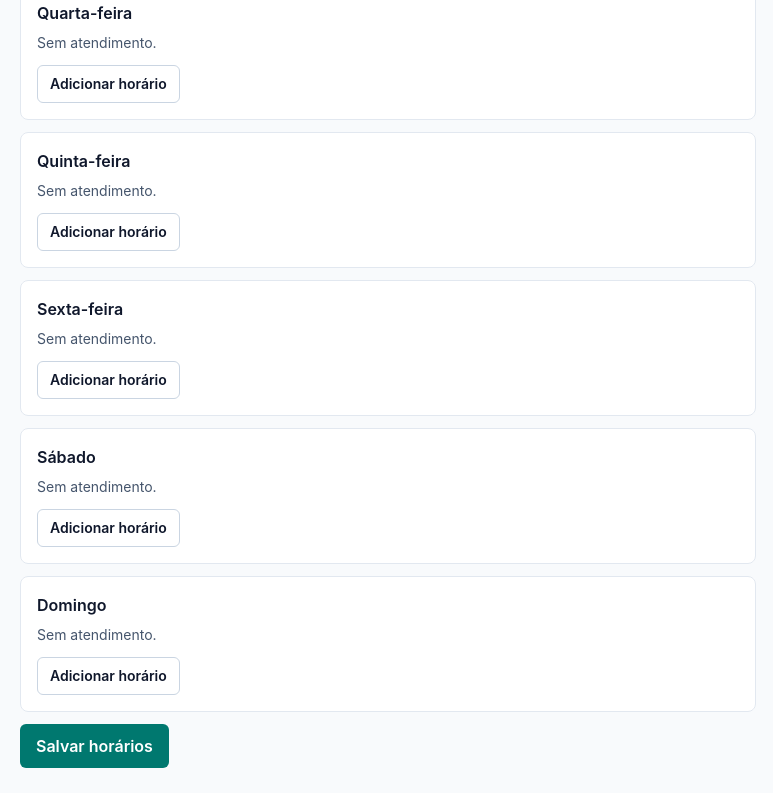
horários de atendimento › mostra o erro que a API devolver
(page scrolled)
Step 1. Click the button named "Adicionar horário no domingo" → (108,676), box [37, 657, 180, 695]
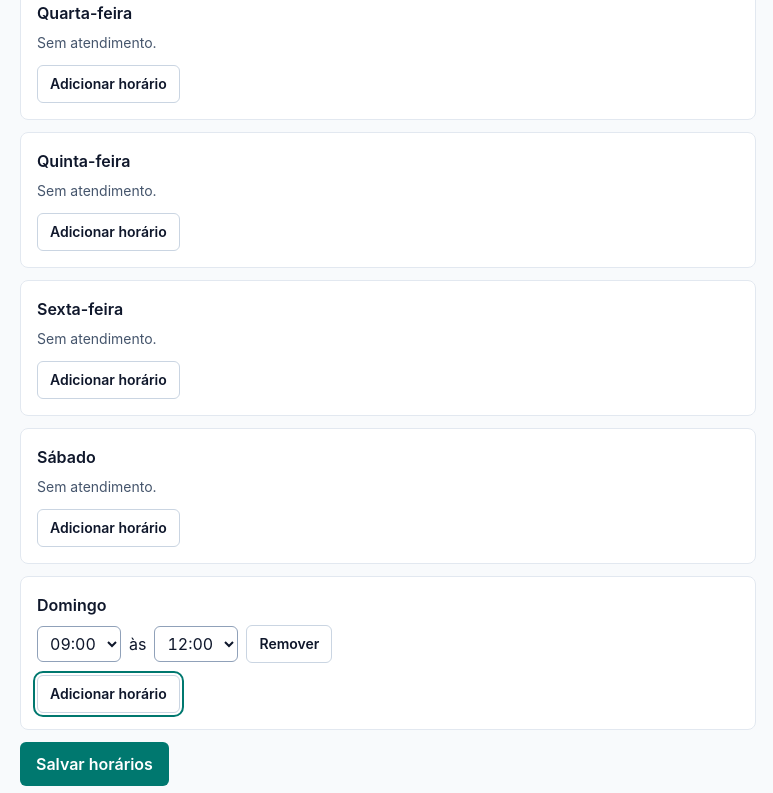
Step 2. Click the button "Salvar horários" → (94,764), box [20, 742, 169, 786]
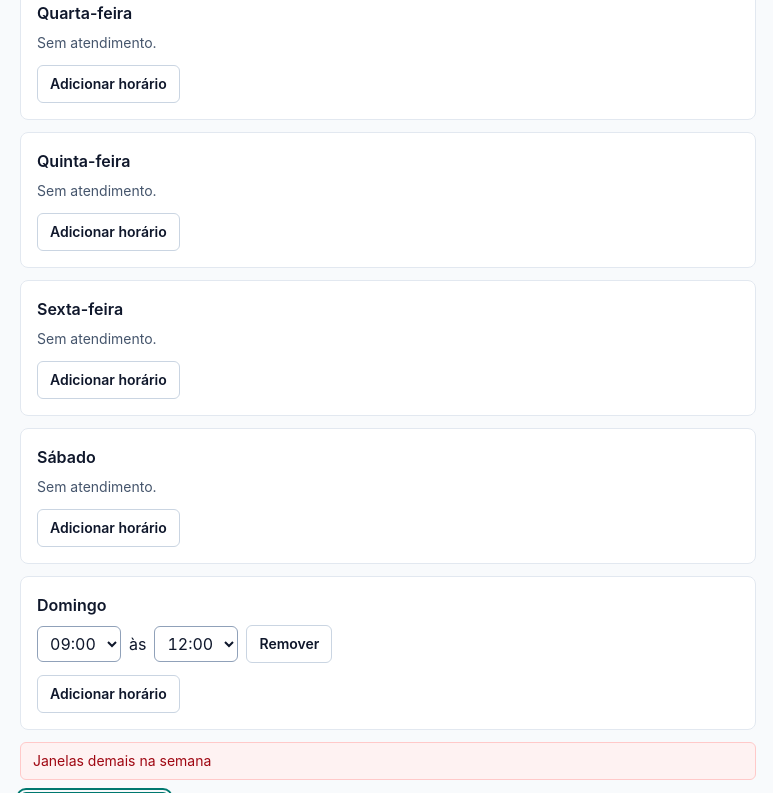
expect the message reads "Janelas demais na semana": met, box [33, 752, 211, 769]
